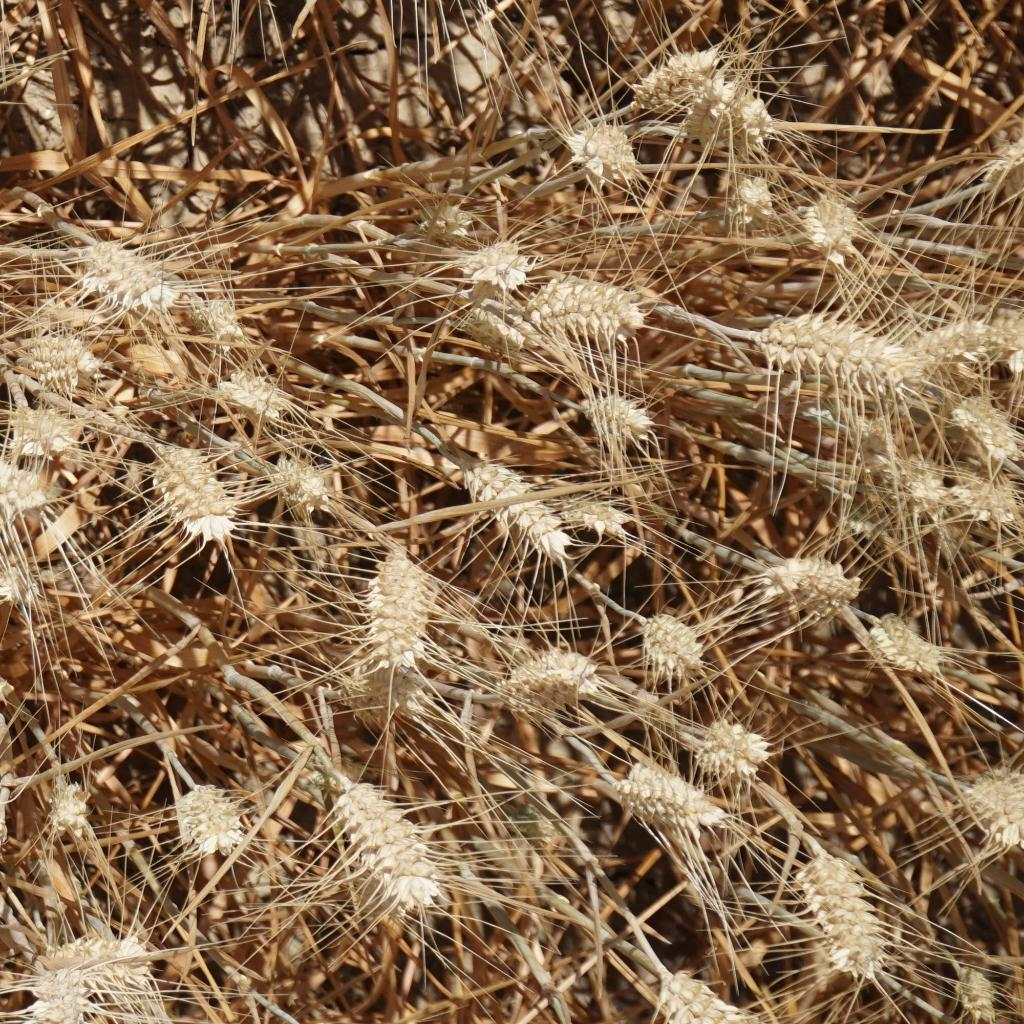0-0: (757, 310, 935, 402), (790, 837, 892, 983), (334, 785, 446, 915), (23, 922, 172, 1003), (520, 267, 652, 355), (464, 446, 570, 553), (155, 439, 253, 551), (358, 542, 441, 666), (609, 759, 736, 840), (535, 453, 642, 537), (74, 236, 193, 311), (327, 656, 435, 734), (756, 543, 862, 622), (208, 366, 316, 441), (494, 648, 604, 717), (638, 45, 734, 124), (691, 713, 788, 787), (628, 605, 721, 680), (955, 756, 1024, 854), (862, 606, 945, 685), (271, 435, 346, 519), (921, 313, 1024, 374), (582, 380, 665, 455), (653, 968, 762, 1024), (172, 781, 249, 860), (945, 387, 1024, 463), (946, 468, 1023, 544), (796, 189, 869, 266), (454, 298, 539, 363), (10, 398, 88, 468), (560, 118, 644, 183), (501, 785, 571, 863), (173, 275, 253, 342), (459, 227, 542, 290), (965, 128, 1024, 210), (31, 325, 102, 392), (713, 166, 787, 225), (684, 75, 749, 141), (356, 863, 420, 927), (43, 770, 104, 837), (0, 458, 53, 525), (32, 969, 91, 1024), (900, 467, 961, 520), (412, 196, 475, 246), (953, 963, 1004, 1024), (849, 412, 897, 476), (0, 555, 47, 612), (736, 101, 780, 158)
